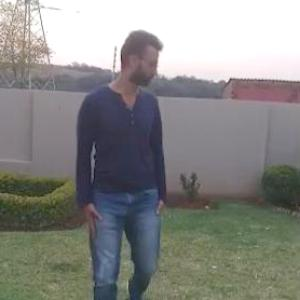follow: (69, 22, 174, 299)
